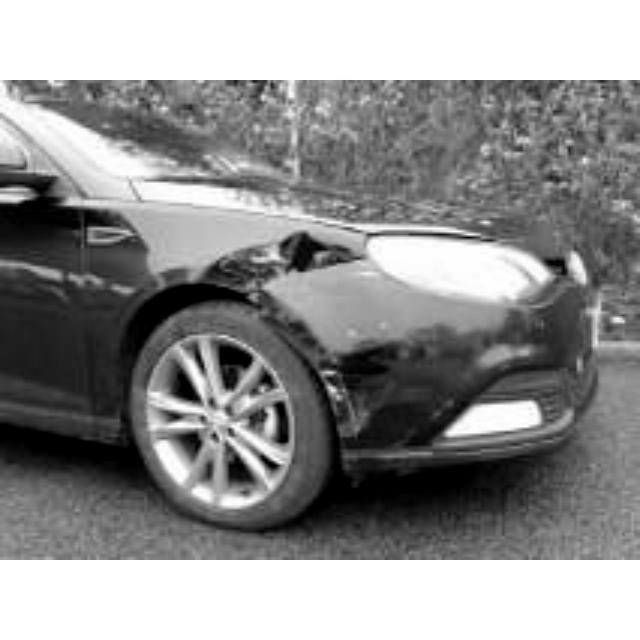fender-dent: (84, 194, 378, 326)
front-bumper-dent: (310, 282, 583, 465)
